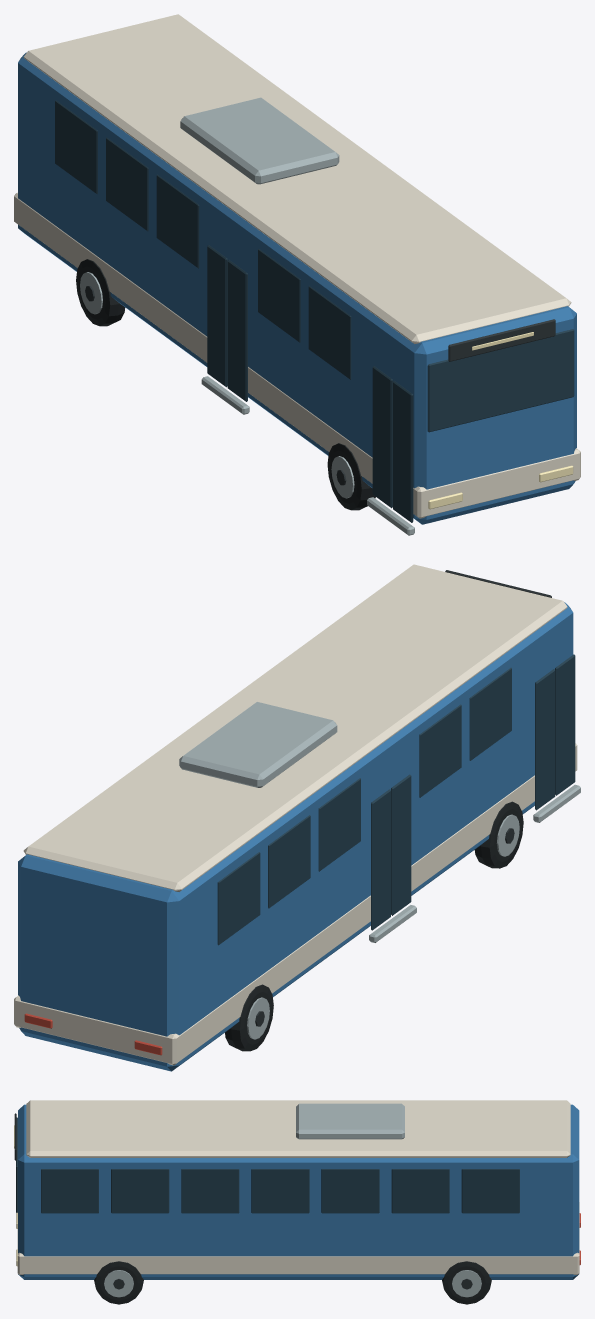
The model's file is bus-city-01.glb.
3 views of the same model, one above another, from view 1: azimuth 30°, elevation 25°; view 2: azimuth 150°, elevation 25°; view 3: azimuth 270°, elevation 25° (orthographic). The views are drawn at different scales.
Parts seen in each view (by area): view 1: Roof, Body, LowerBand, Glass_Windscreen, HVAC, Window.002, Window, Window.001, Window.004, Window.003, PassengerDoor_R.003, PassengerDoor_R (+5 smaller); view 2: Body, Roof, LowerBand, HVAC, Window.004, Window, Window.001, Window.002, Window.003, PassengerDoor_R.001, PassengerDoor_R, PassengerDoor_R.002 (+5 smaller); view 3: Body, Roof, LowerBand, HVAC, Window.006, Window.007, Window.008, Window.009, Window.010, Window.011, Window.005, Tyre_FL (+3 smaller).
Boxes of the visible parts, bbox=[...] form: Roof: bbox=[23, 14, 571, 343]; Body: bbox=[18, 52, 576, 524]; LowerBand: bbox=[14, 192, 580, 518]; Glass_Windscreen: bbox=[427, 329, 574, 432]; HVAC: bbox=[180, 97, 339, 184]; Window.002: bbox=[156, 174, 199, 268]; Window: bbox=[308, 286, 351, 379]; Window.001: bbox=[258, 249, 300, 342]; Window.004: bbox=[55, 100, 97, 193]; Window.003: bbox=[106, 137, 148, 231]; PassengerDoor_R.003: bbox=[207, 245, 227, 387]; PassengerDoor_R: bbox=[393, 380, 413, 522]; Body: bbox=[18, 602, 573, 1071]; Roof: bbox=[23, 564, 567, 891]; LowerBand: bbox=[14, 743, 577, 1065]; HVAC: bbox=[179, 702, 337, 787]; Window.004: bbox=[217, 852, 260, 945]; Window: bbox=[469, 667, 511, 760]; Window.001: bbox=[419, 704, 461, 797]; Window.002: bbox=[318, 778, 360, 871]; Window.003: bbox=[268, 815, 310, 908]; PassengerDoor_R.001: bbox=[535, 669, 555, 810]; PassengerDoor_R: bbox=[555, 654, 575, 795]; PassengerDoor_R.002: bbox=[391, 774, 411, 915]; Body: bbox=[18, 1104, 579, 1279]; Roof: bbox=[26, 1100, 570, 1157]; LowerBand: bbox=[17, 1202, 579, 1274]; HVAC: bbox=[296, 1103, 404, 1139]; Window.006: bbox=[111, 1169, 169, 1213]; Window.007: bbox=[181, 1169, 239, 1213]; Window.008: bbox=[251, 1169, 309, 1213]; Window.009: bbox=[321, 1169, 379, 1213]; Window.010: bbox=[391, 1169, 449, 1213]; Window.011: bbox=[461, 1169, 519, 1213]; Window.005: bbox=[41, 1169, 98, 1213]; Tyre_FL: bbox=[94, 1261, 143, 1304].
Size of the model in its own units: 2.7 by 3.42 by 10.91.
